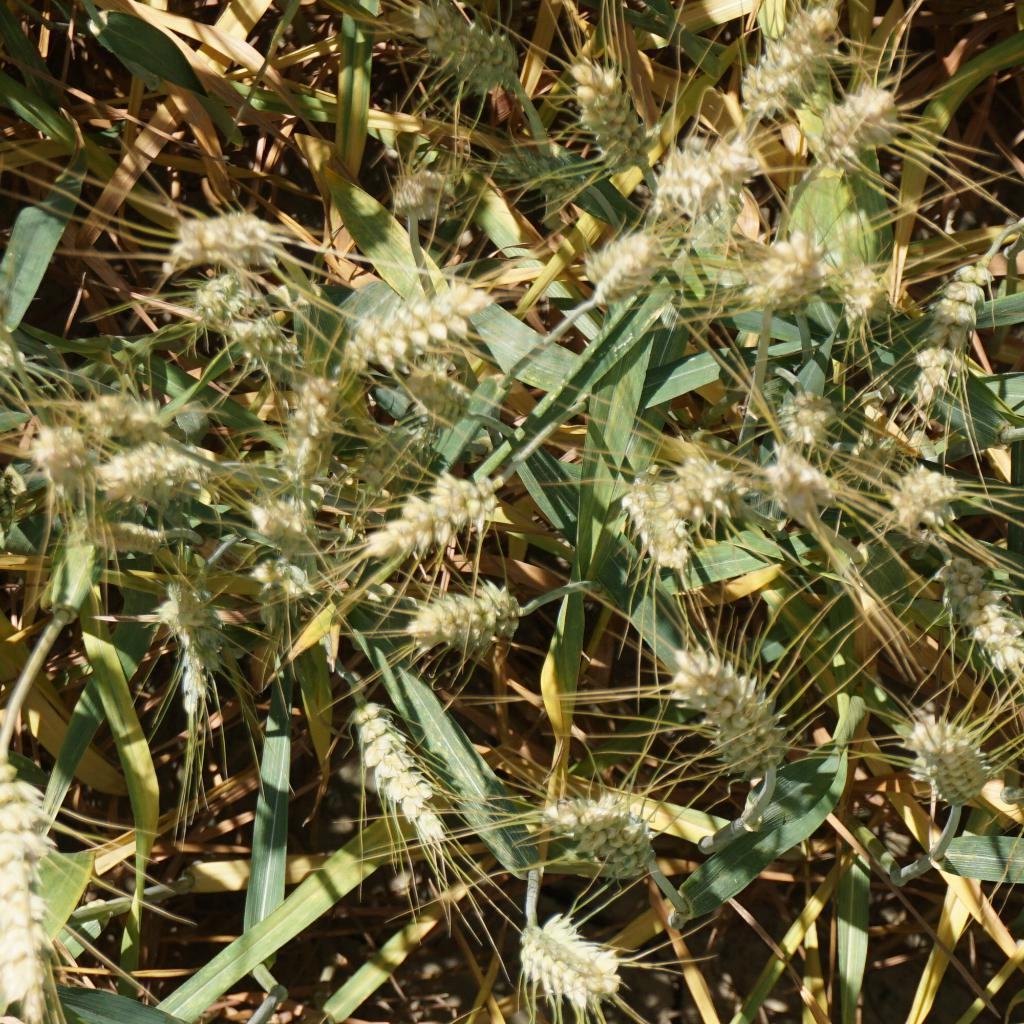0-0: (901, 251, 997, 419), (0, 757, 60, 1007), (348, 699, 451, 842), (671, 651, 788, 773), (726, 1, 847, 110), (404, 5, 537, 101), (328, 282, 480, 364), (361, 465, 501, 550), (934, 555, 1024, 684), (502, 912, 621, 1004), (564, 54, 658, 167), (409, 570, 527, 658), (549, 785, 662, 873), (162, 202, 281, 274), (282, 366, 344, 499), (730, 231, 829, 310), (81, 436, 207, 498), (908, 709, 985, 806), (159, 570, 230, 671), (613, 480, 695, 566), (883, 458, 969, 540), (577, 230, 663, 312), (489, 147, 601, 209), (395, 361, 482, 440), (821, 98, 916, 166), (656, 147, 751, 211), (34, 424, 101, 514), (87, 386, 169, 443), (770, 438, 827, 520), (73, 513, 161, 565), (380, 165, 457, 222), (230, 314, 309, 364), (253, 489, 322, 545), (684, 453, 745, 516), (765, 378, 827, 438), (833, 263, 890, 325), (188, 271, 236, 322), (259, 560, 308, 608), (0, 336, 16, 387)
